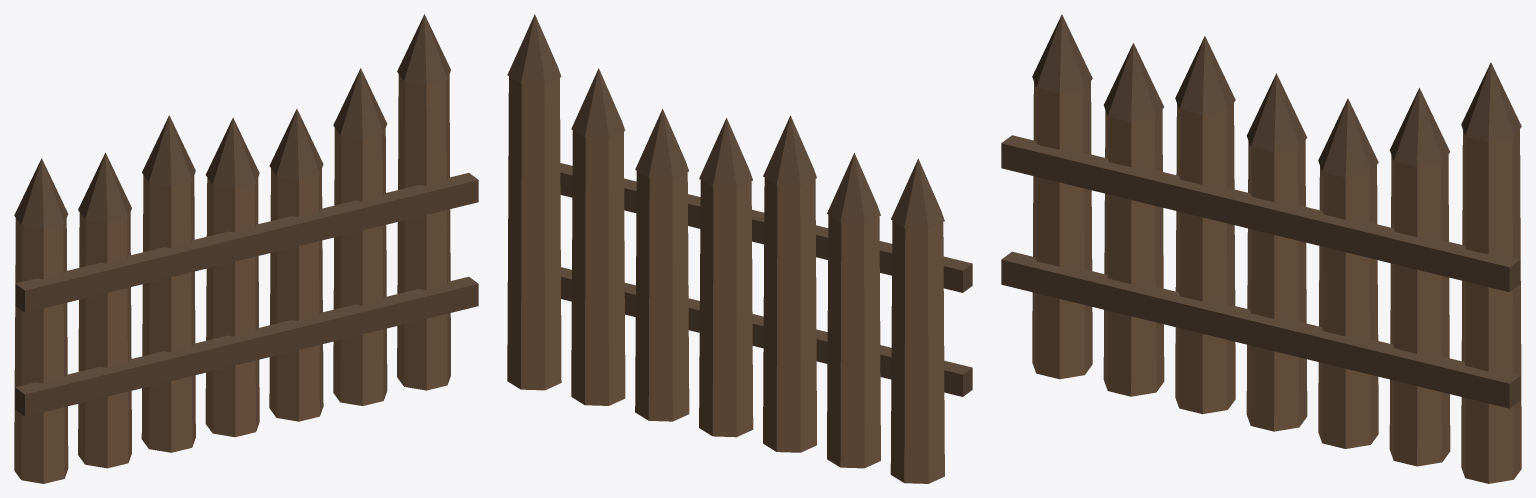
Rendered from goblin_palisade.glb.
The picture shows the model from 3 angles, left to right: view 1: azimuth 30°, elevation 25°; view 2: azimuth 150°, elevation 25°; view 3: azimuth 330°, elevation 25°; orthographic projection. The views are drawn at different scales.
Visible parts, largest first — view 1: goblin_palisade; view 2: goblin_palisade; view 3: goblin_palisade.
Boxes of the visible parts, x1=… form: goblin_palisade: x1=14, y1=14, x2=478, y2=483; goblin_palisade: x1=507, y1=14, x2=972, y2=483; goblin_palisade: x1=1001, y1=14, x2=1521, y2=483.
Bounding box in the file's own units: 3.2 × 2.46 × 0.4.
